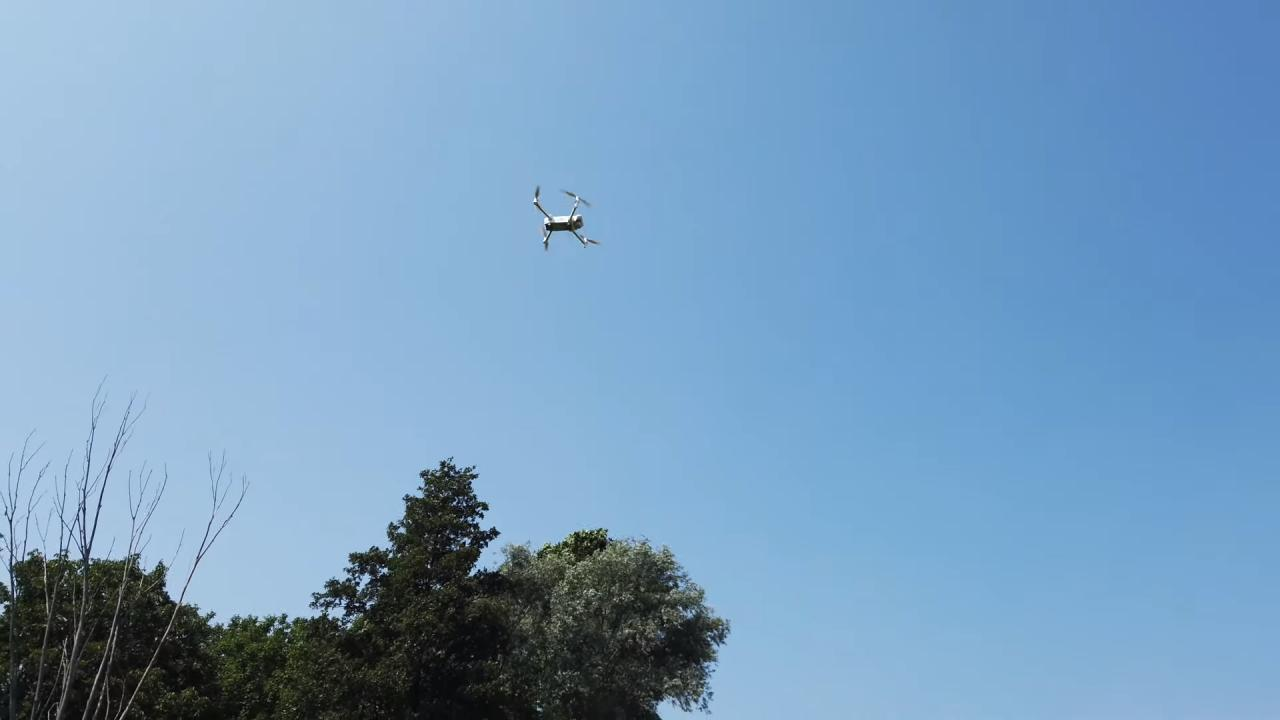Drone: (520, 177, 608, 264)
